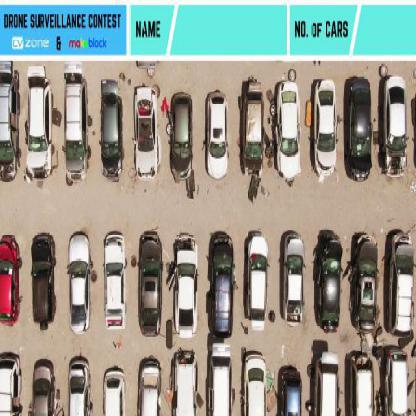car: (350, 231, 379, 335), (346, 79, 374, 185), (133, 79, 160, 180), (65, 85, 93, 182), (280, 238, 308, 330), (26, 82, 52, 181), (103, 236, 129, 330), (313, 83, 339, 175), (30, 234, 56, 324), (102, 82, 125, 183), (275, 87, 300, 178), (246, 85, 270, 179), (205, 94, 231, 180), (210, 232, 233, 328), (67, 238, 91, 330), (384, 87, 408, 178), (247, 241, 271, 329), (393, 237, 415, 329), (175, 250, 199, 334), (142, 242, 164, 333), (172, 96, 195, 182), (171, 351, 200, 415), (319, 252, 342, 332), (208, 345, 233, 415), (3, 241, 23, 325), (352, 349, 376, 415), (2, 83, 19, 176), (30, 359, 58, 415), (316, 351, 340, 415), (388, 353, 412, 415), (138, 359, 164, 414), (68, 355, 92, 414), (245, 355, 269, 414), (1, 352, 23, 414), (278, 367, 304, 415), (103, 368, 127, 415)
